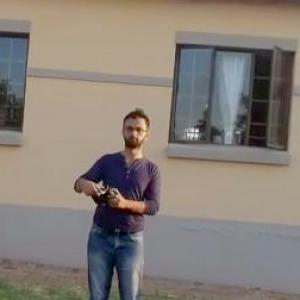follow: (63, 101, 168, 299)
